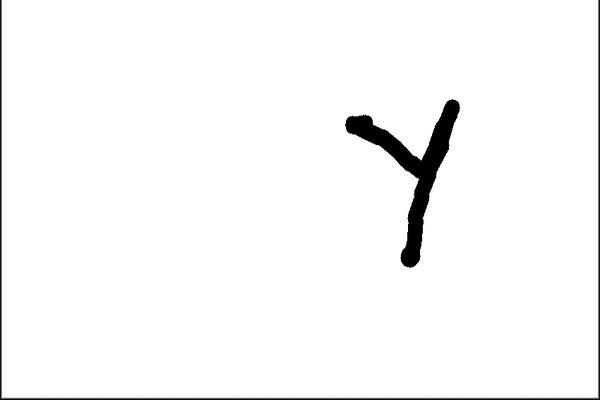Y: (336, 91, 483, 280)
